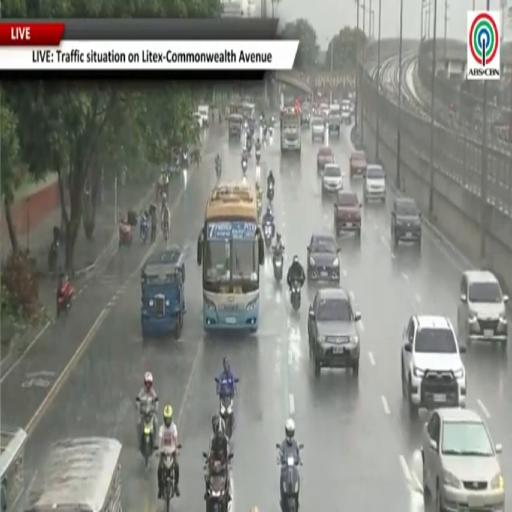bus: (197, 183, 264, 332)
car: (421, 408, 504, 511), (401, 315, 466, 417), (308, 288, 360, 376), (457, 270, 508, 346), (391, 198, 422, 248), (307, 234, 339, 282), (334, 190, 362, 237), (363, 165, 386, 203), (322, 164, 343, 193), (349, 151, 366, 179), (317, 147, 334, 172), (310, 116, 326, 142), (342, 100, 352, 124), (193, 112, 203, 129), (319, 103, 329, 120)
jeepney: (24, 438, 121, 511), (141, 246, 185, 338), (0, 429, 26, 511), (228, 114, 243, 139), (242, 103, 255, 120), (230, 103, 242, 115)
motorcycle: (276, 444, 300, 511), (206, 462, 228, 511), (141, 406, 156, 467), (162, 452, 175, 511), (219, 396, 234, 439), (57, 280, 74, 316), (48, 227, 60, 271), (119, 221, 133, 248), (290, 280, 301, 311), (48, 240, 59, 271), (273, 249, 283, 282), (140, 216, 149, 244), (264, 220, 273, 248), (266, 181, 274, 203), (163, 222, 169, 244), (182, 152, 188, 170), (257, 196, 262, 217), (255, 150, 261, 166), (216, 163, 221, 180), (246, 139, 251, 154), (242, 160, 247, 174), (269, 126, 274, 139)
truck: (280, 107, 301, 152), (328, 104, 341, 136)
